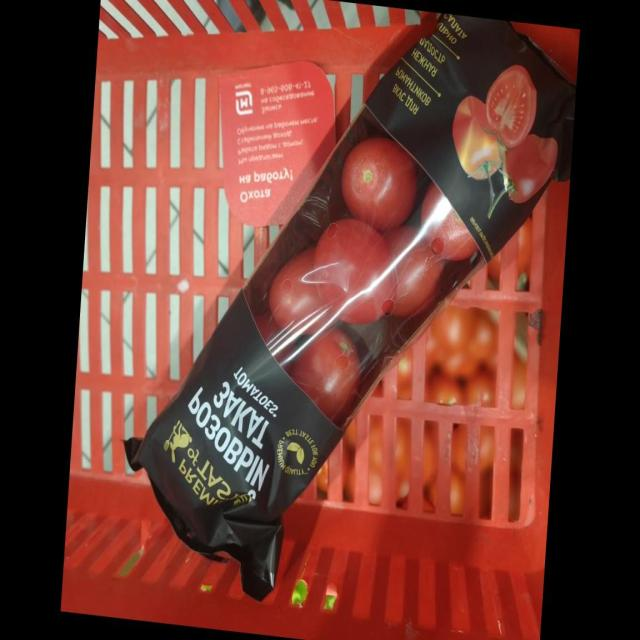tomato: (183, 177, 523, 506), (193, 136, 577, 414), (215, 123, 637, 365), (206, 110, 598, 339), (158, 144, 471, 423), (143, 171, 411, 480), (226, 102, 640, 286), (213, 85, 607, 225)
